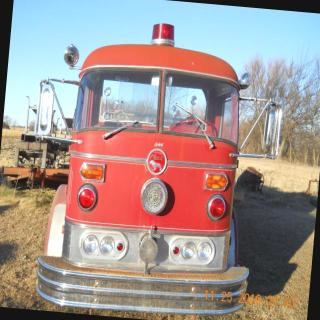Fire_truck: (0, 9, 290, 320)
